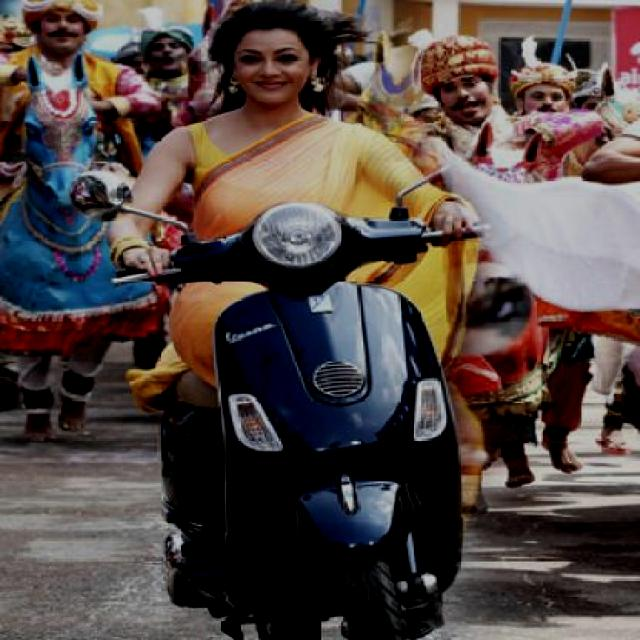Without Helmet: (211, 5, 340, 112)
